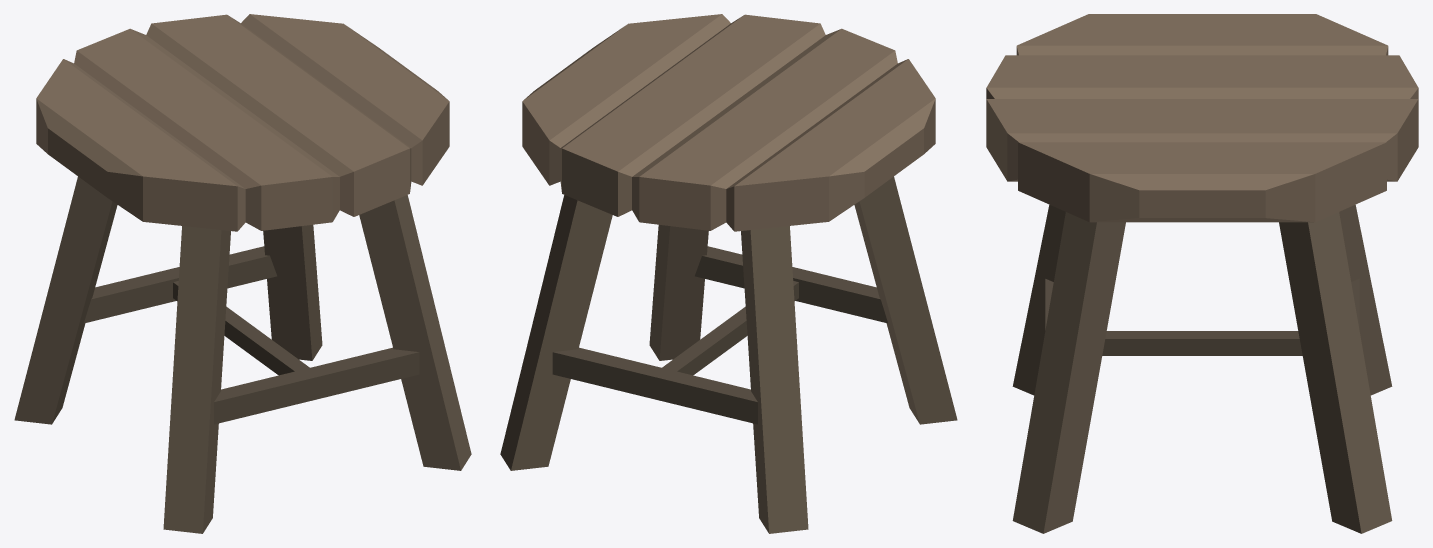
The model's file is Sgabello.fbx.
3 renders of one model, left to right at view 1: azimuth 30°, elevation 25°; view 2: azimuth 150°, elevation 25°; view 3: azimuth 270°, elevation 25°, orthographic. The views are drawn at different scales.
Parts seen in each view (by area): view 1: SM_Prop_Stool_02; view 2: SM_Prop_Stool_02; view 3: SM_Prop_Stool_02.
Part boxes in pixels (x1=…): SM_Prop_Stool_02: x1=14, y1=14, x2=471, y2=533; SM_Prop_Stool_02: x1=500, y1=14, x2=957, y2=533; SM_Prop_Stool_02: x1=986, y1=14, x2=1418, y2=533.
Size of the model in its own units: 53.31 by 51.97 by 56.56.
1 material, 1 textured.
